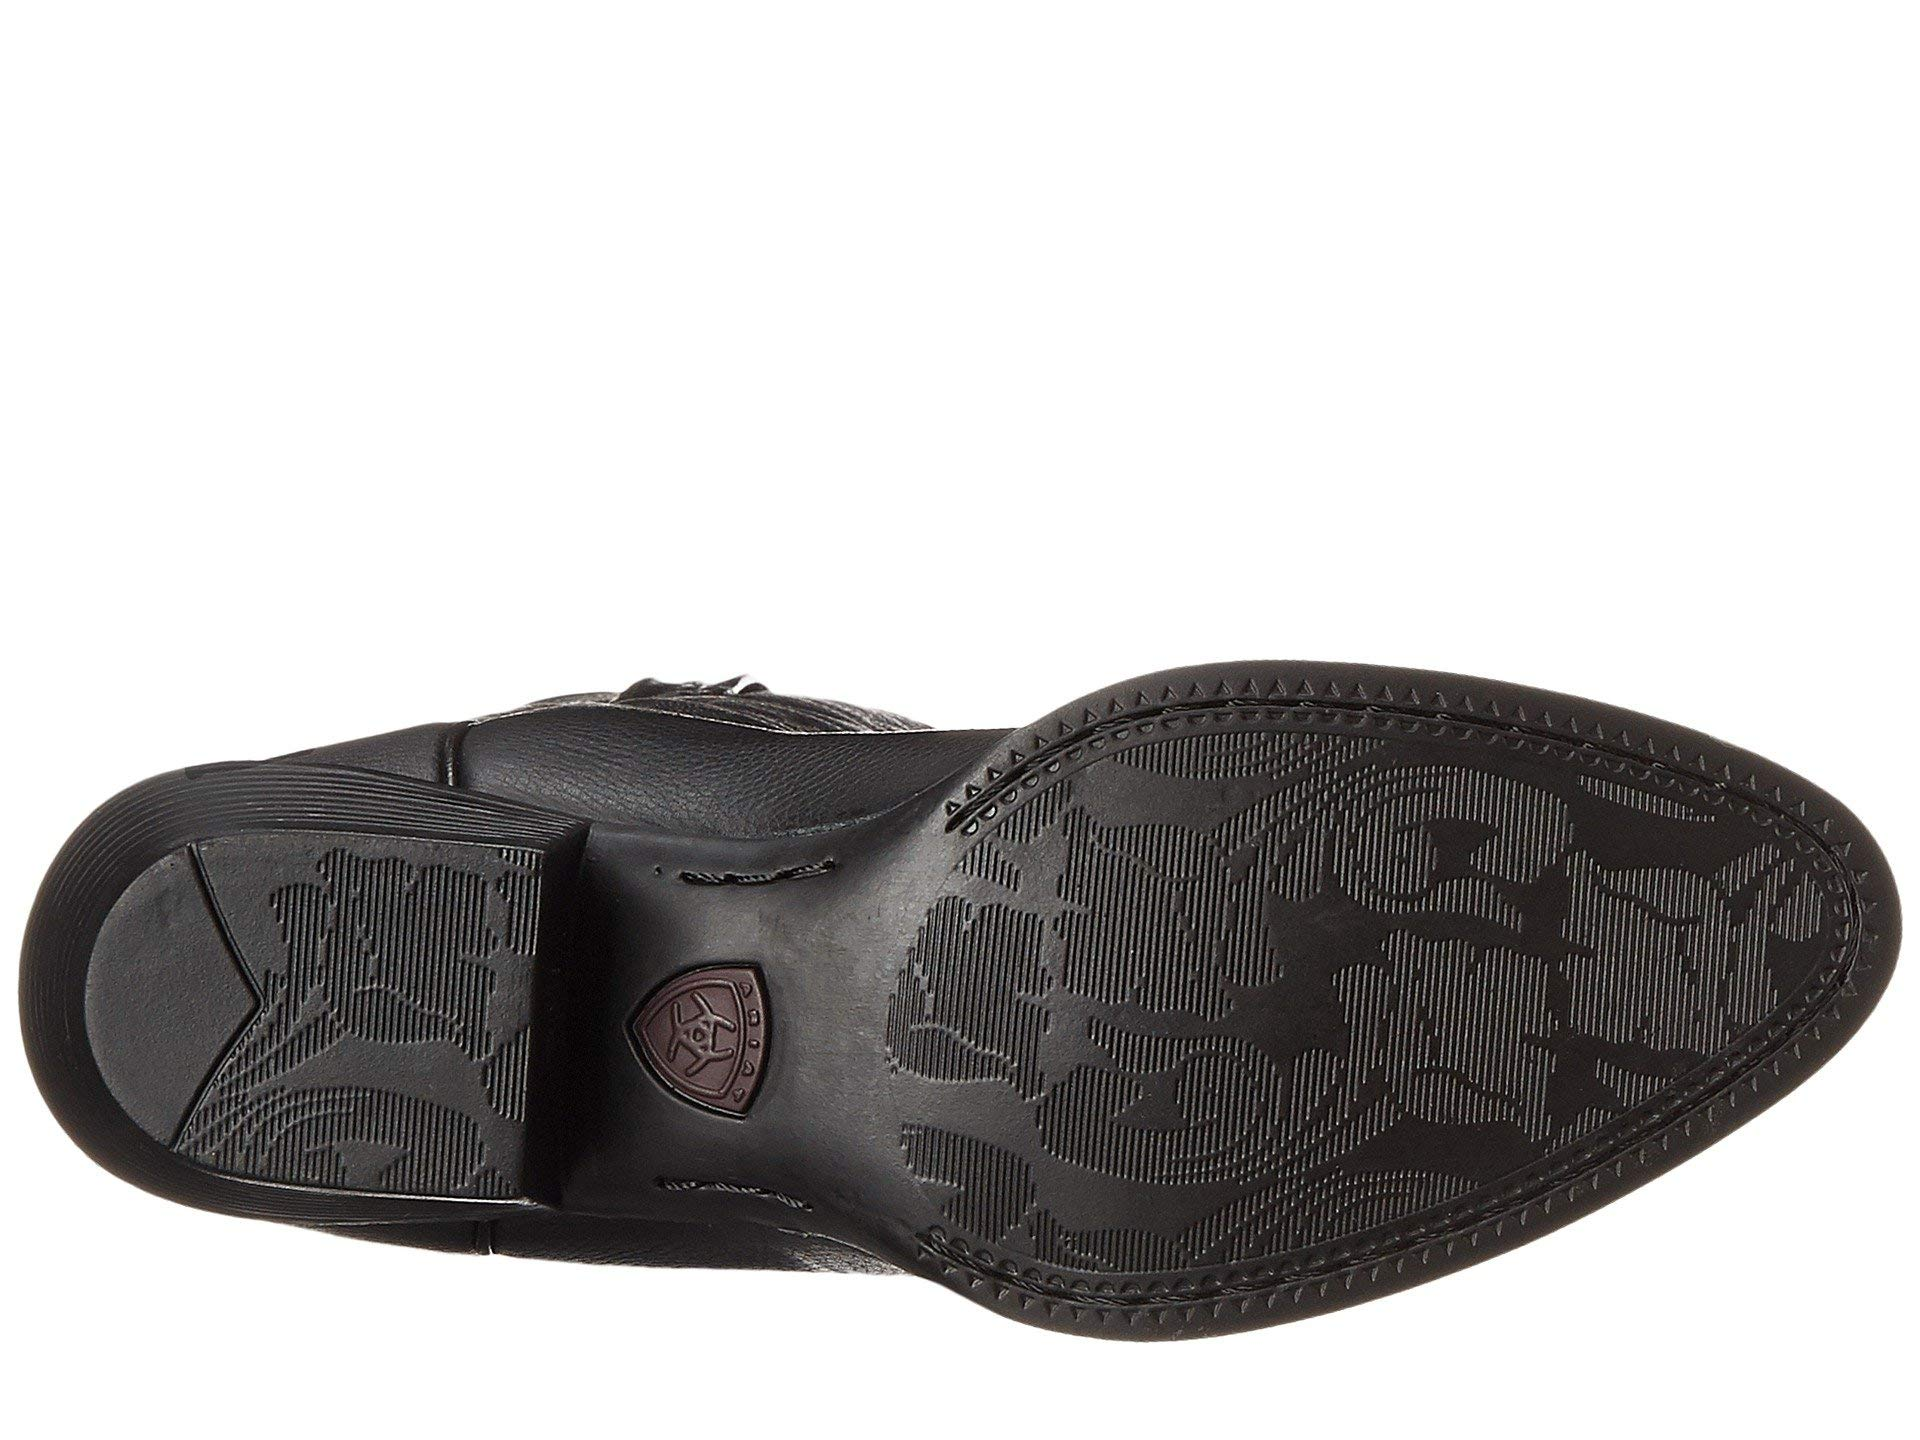line: (1442, 982, 1528, 1069), (1609, 932, 1677, 1023), (1092, 886, 1158, 961), (390, 914, 463, 980), (1494, 796, 1562, 864), (1052, 1085, 1110, 1160), (382, 1106, 464, 1157), (949, 948, 1005, 1023)
